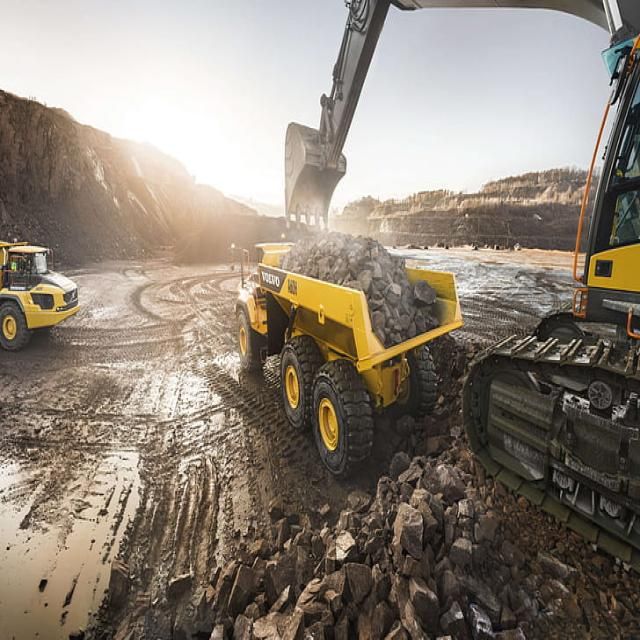dump_truck: (220, 238, 462, 456), (0, 227, 88, 351)
